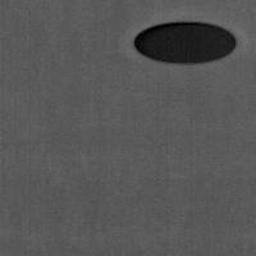Punching: (134, 22, 237, 65)
